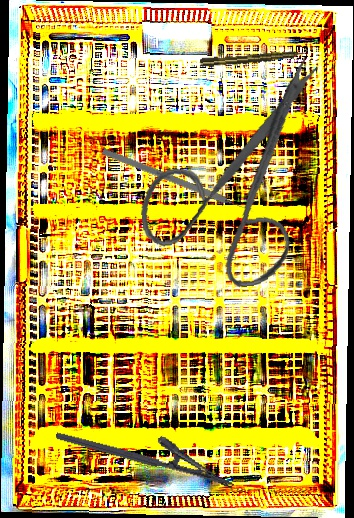Handpiece: (199, 48, 309, 68)
Hook Surgical: (101, 147, 256, 216)
Iris Scissors: (122, 53, 349, 300)
Needle Holder: (54, 407, 242, 491)
